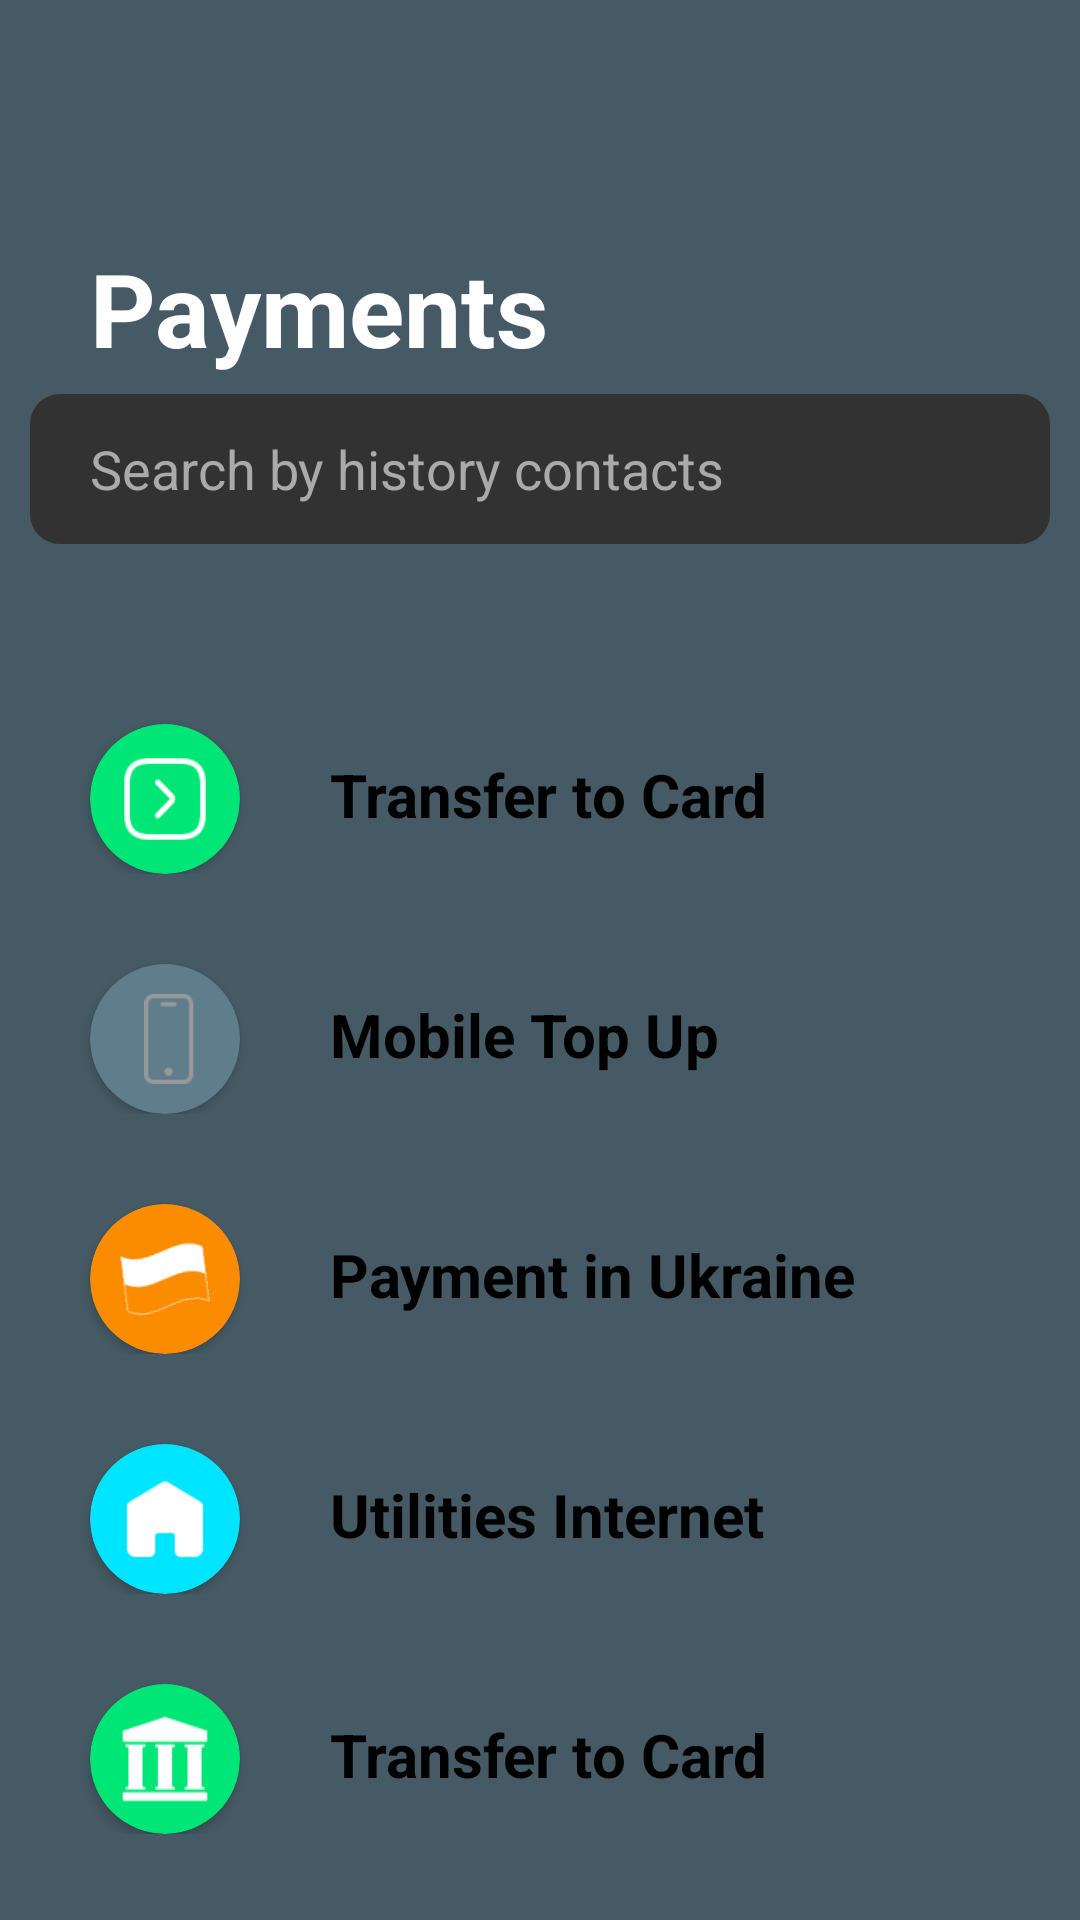

Icons on this 1080×1920 Android screen, each with the point to tap as (x,y):
homepage: (165,1519)
iphone: (168,1039)
museum: (165,1759)
right arrows: (165,799)
